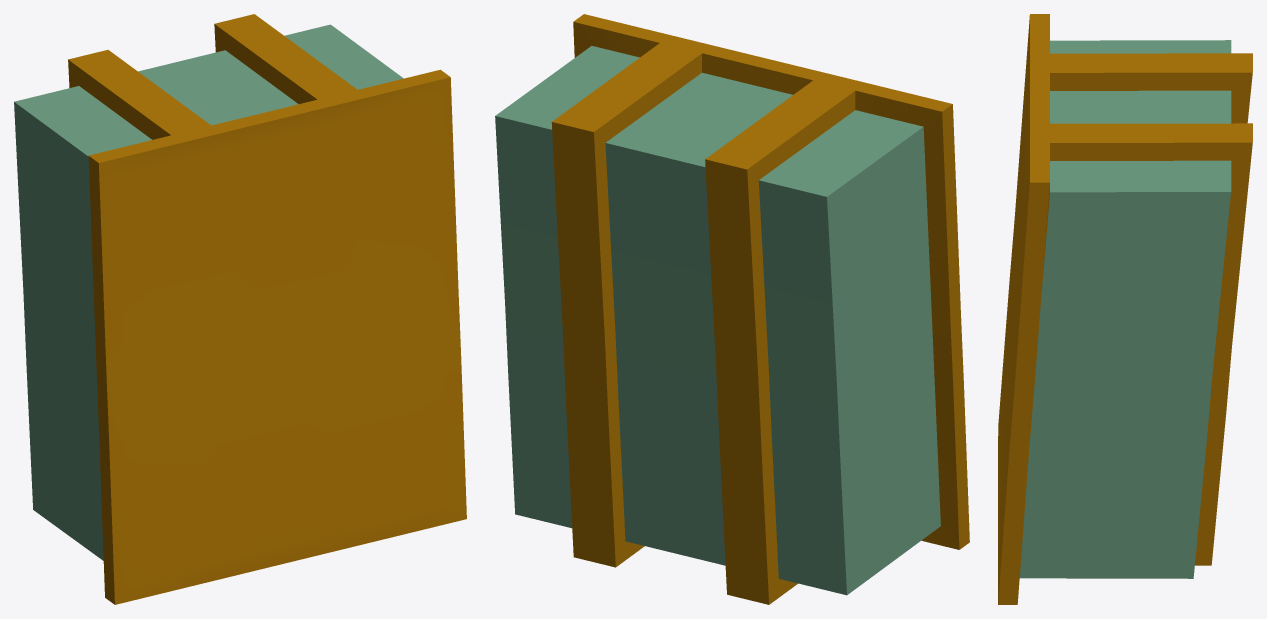
File: SteamTank.fbx
3 renders of one model, left to right at view 1: azimuth 30°, elevation 25°; view 2: azimuth 150°, elevation 25°; view 3: azimuth 270°, elevation 25°, orthographic. The views are drawn at different scales.
Parts seen in each view (by area): view 1: Tank; view 2: Tank; view 3: Tank.
Boxes of the visible parts, x1=… form: Tank: x1=14, y1=14, x2=466, y2=604; Tank: x1=495, y1=14, x2=969, y2=604; Tank: x1=998, y1=14, x2=1252, y2=604.
Size of the model in its own units: 155 by 182 by 99.14.
